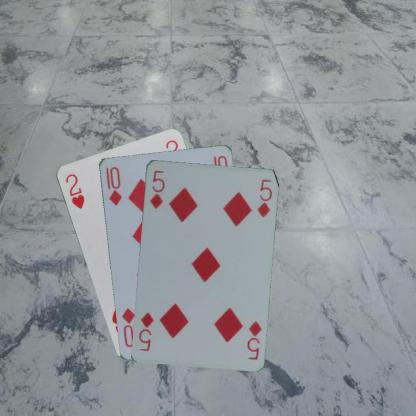10d: (103, 163, 123, 207)
2h: (63, 171, 86, 210)
5d: (147, 167, 166, 210), (244, 318, 262, 361)
